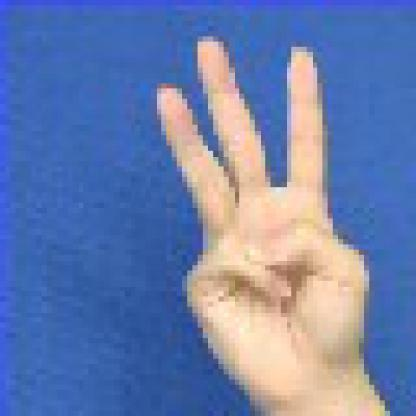three: (148, 28, 379, 408)
